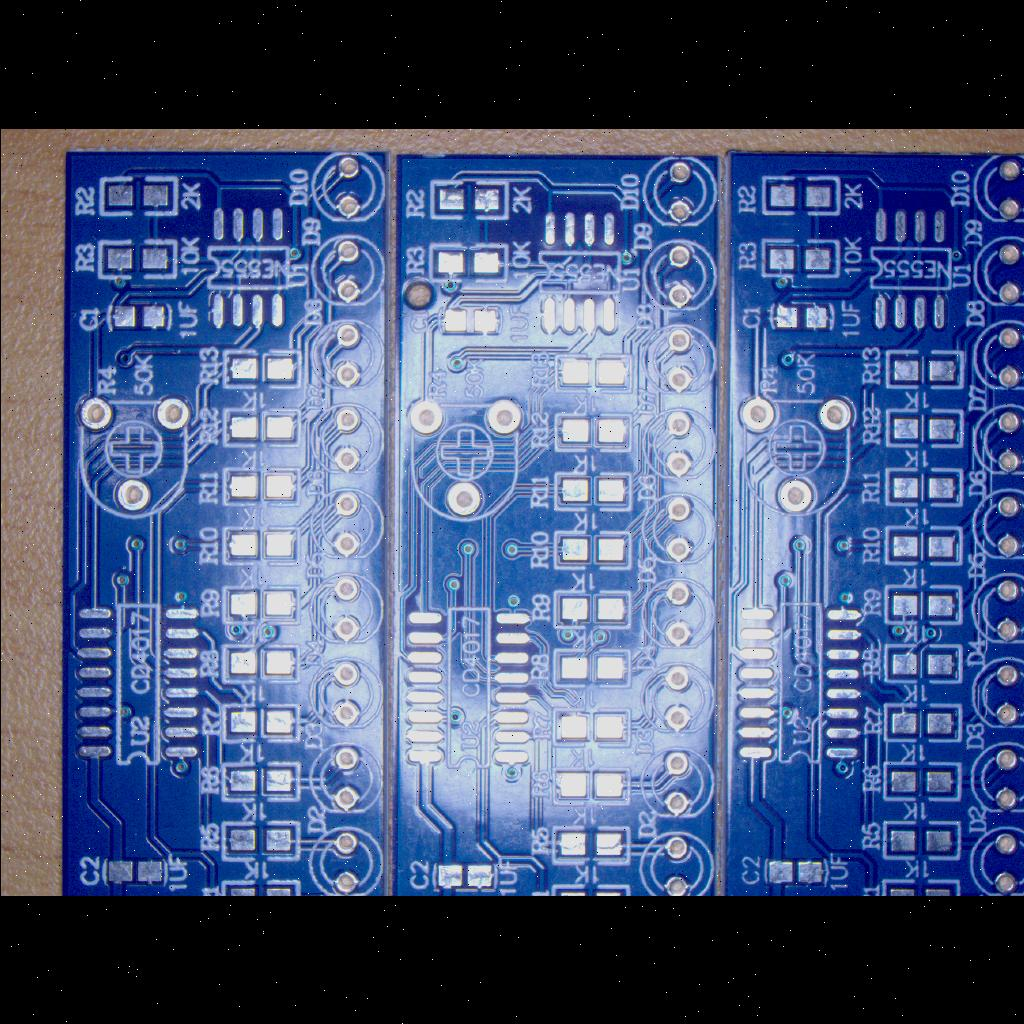NG: (399, 593, 535, 777), (66, 596, 208, 772), (729, 596, 871, 768), (862, 200, 956, 338), (532, 204, 626, 342), (202, 194, 288, 334), (92, 232, 184, 284), (214, 521, 306, 571), (91, 171, 183, 221), (215, 579, 305, 629), (880, 698, 966, 750), (758, 168, 844, 220), (549, 465, 635, 517), (218, 340, 304, 392), (214, 403, 306, 451), (546, 820, 634, 870), (546, 642, 634, 692), (214, 815, 302, 865), (216, 698, 304, 748), (426, 236, 510, 288), (878, 581, 968, 629), (880, 816, 966, 866), (880, 638, 962, 690), (548, 702, 632, 752), (215, 462, 305, 508), (882, 404, 968, 452), (216, 758, 302, 806), (876, 760, 964, 806), (214, 638, 302, 684), (882, 345, 966, 393), (758, 232, 842, 280), (548, 408, 632, 456), (550, 349, 634, 397), (428, 176, 512, 224), (878, 466, 968, 510), (548, 764, 634, 810), (548, 528, 634, 574), (748, 848, 834, 894), (882, 522, 964, 568), (548, 588, 632, 632), (430, 297, 510, 339), (101, 292, 171, 338), (760, 298, 840, 334), (97, 854, 175, 890), (421, 858, 503, 892)
